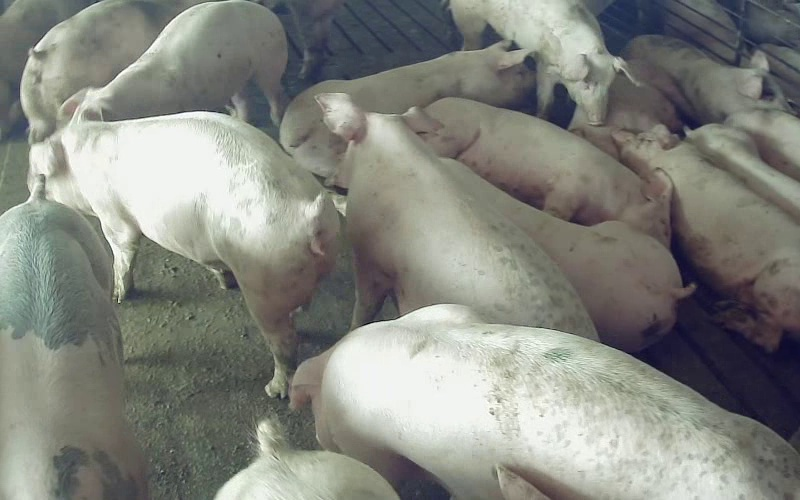pig: (291, 305, 799, 499), (316, 94, 596, 338), (442, 159, 694, 351), (0, 176, 145, 499), (613, 126, 799, 350), (423, 98, 671, 245), (280, 41, 534, 183), (58, 0, 287, 125), (449, 0, 627, 124), (624, 36, 786, 123), (568, 60, 688, 158)
